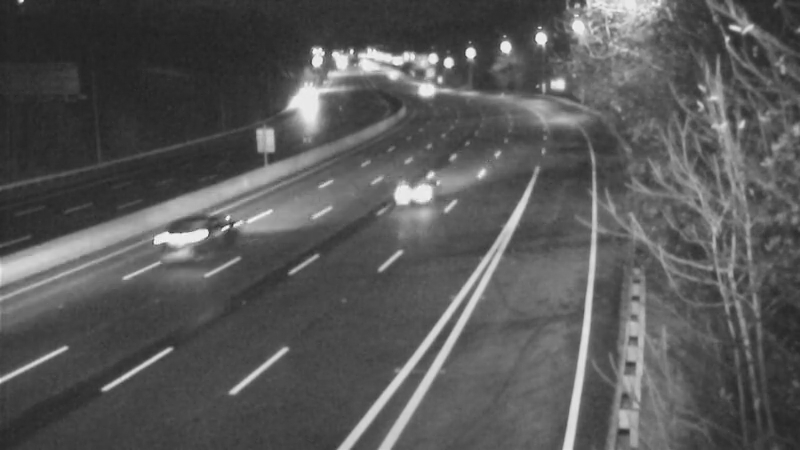vehicle: (376, 154, 456, 234), (145, 188, 225, 268), (395, 63, 445, 113)
